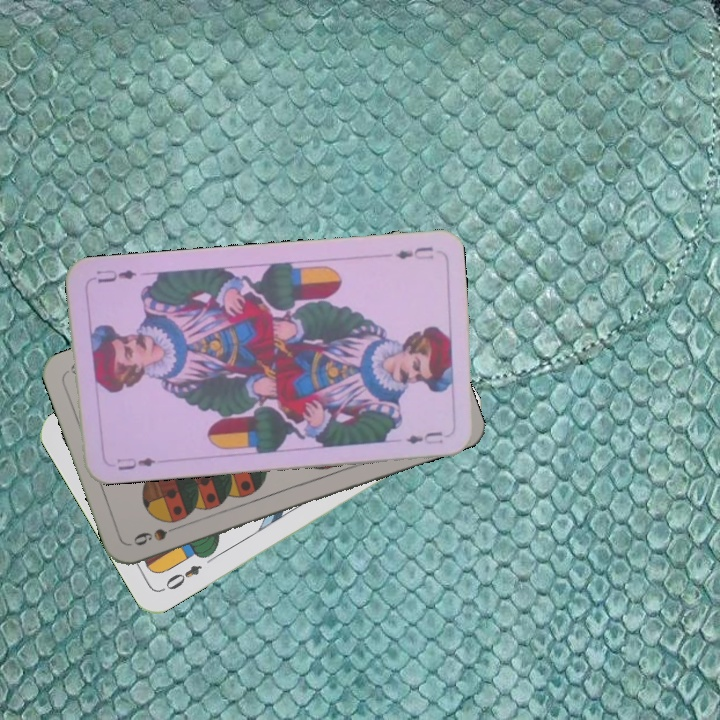EO: (161, 561, 205, 593)
EU: (113, 453, 158, 473), (392, 243, 436, 263)
S9: (129, 520, 186, 549)
